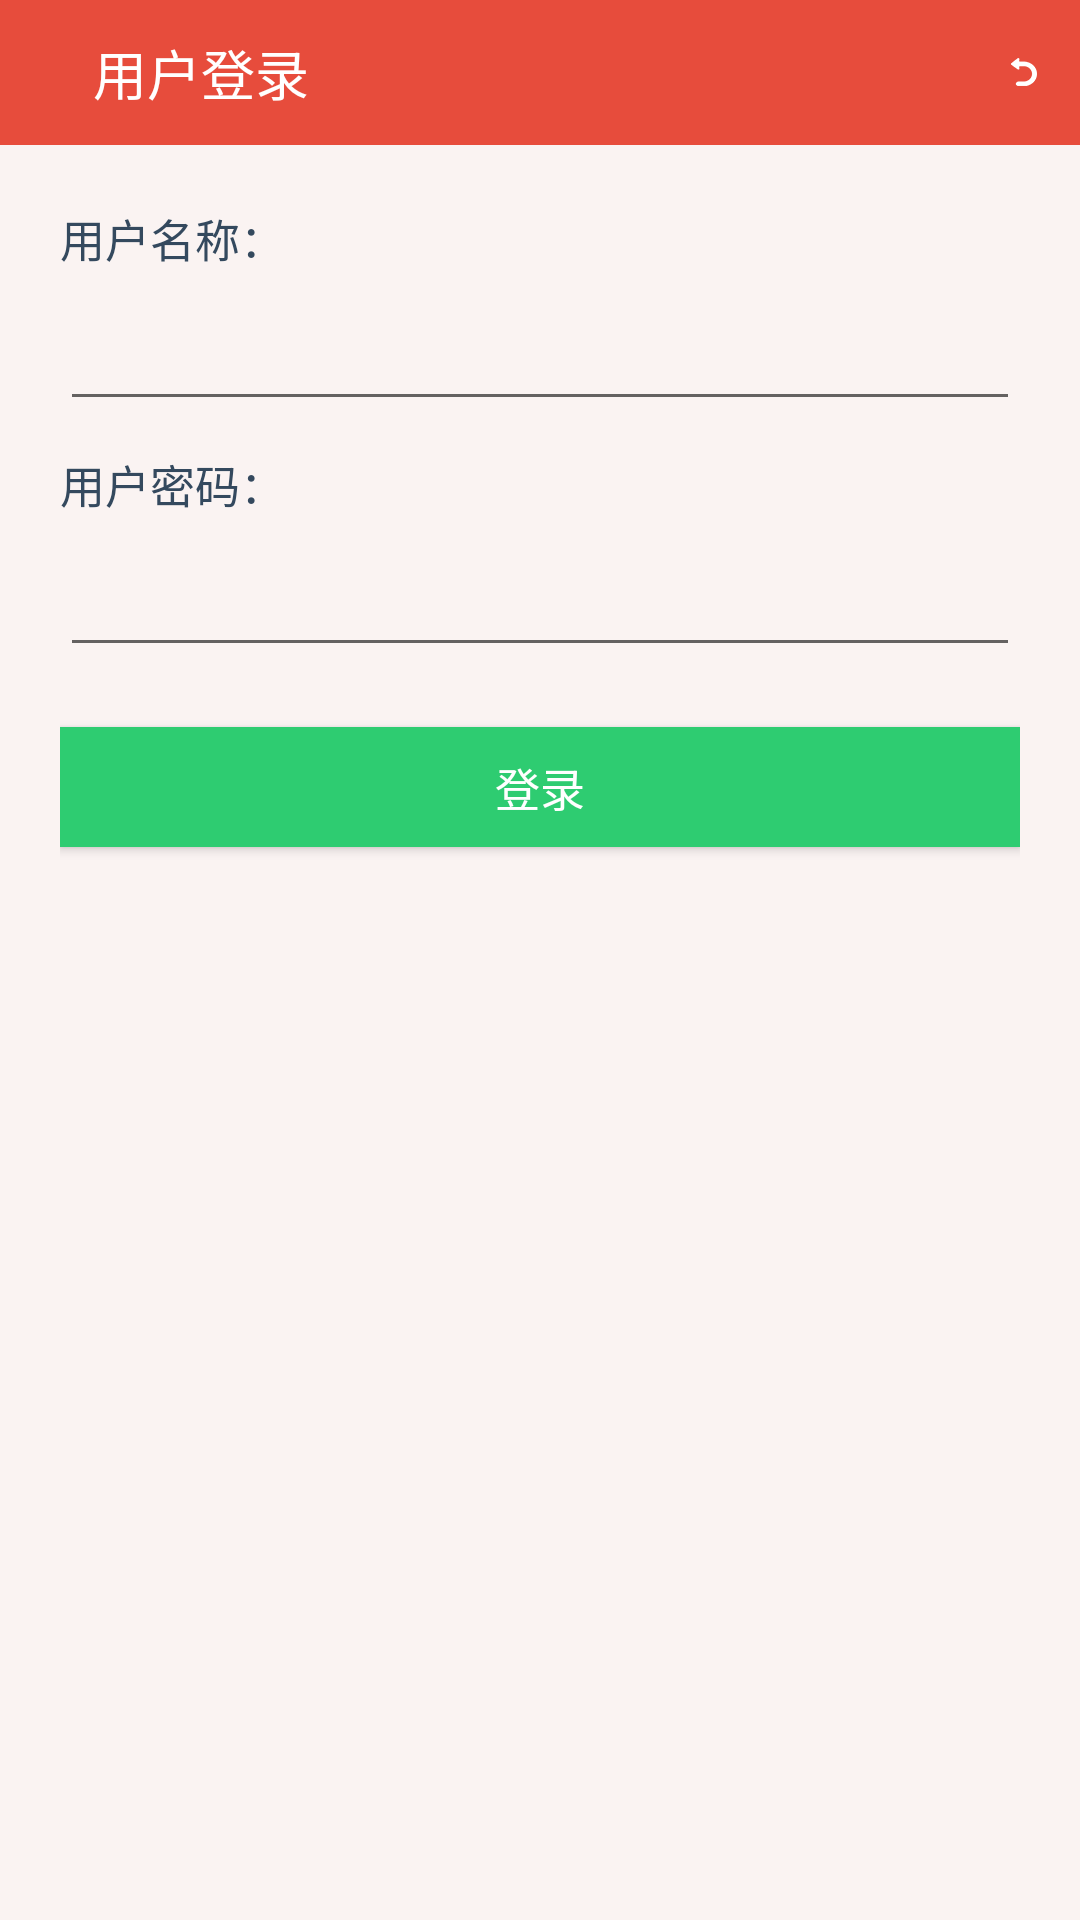

Icons on this 1080 × 1920 Android screen, each with the point to tap as [x,y]:
back: [1024,72]
